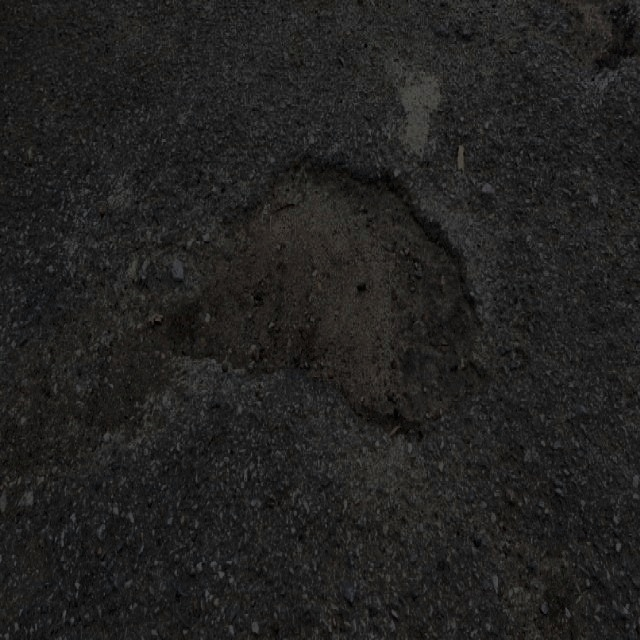Pothole: (152, 140, 486, 450)
